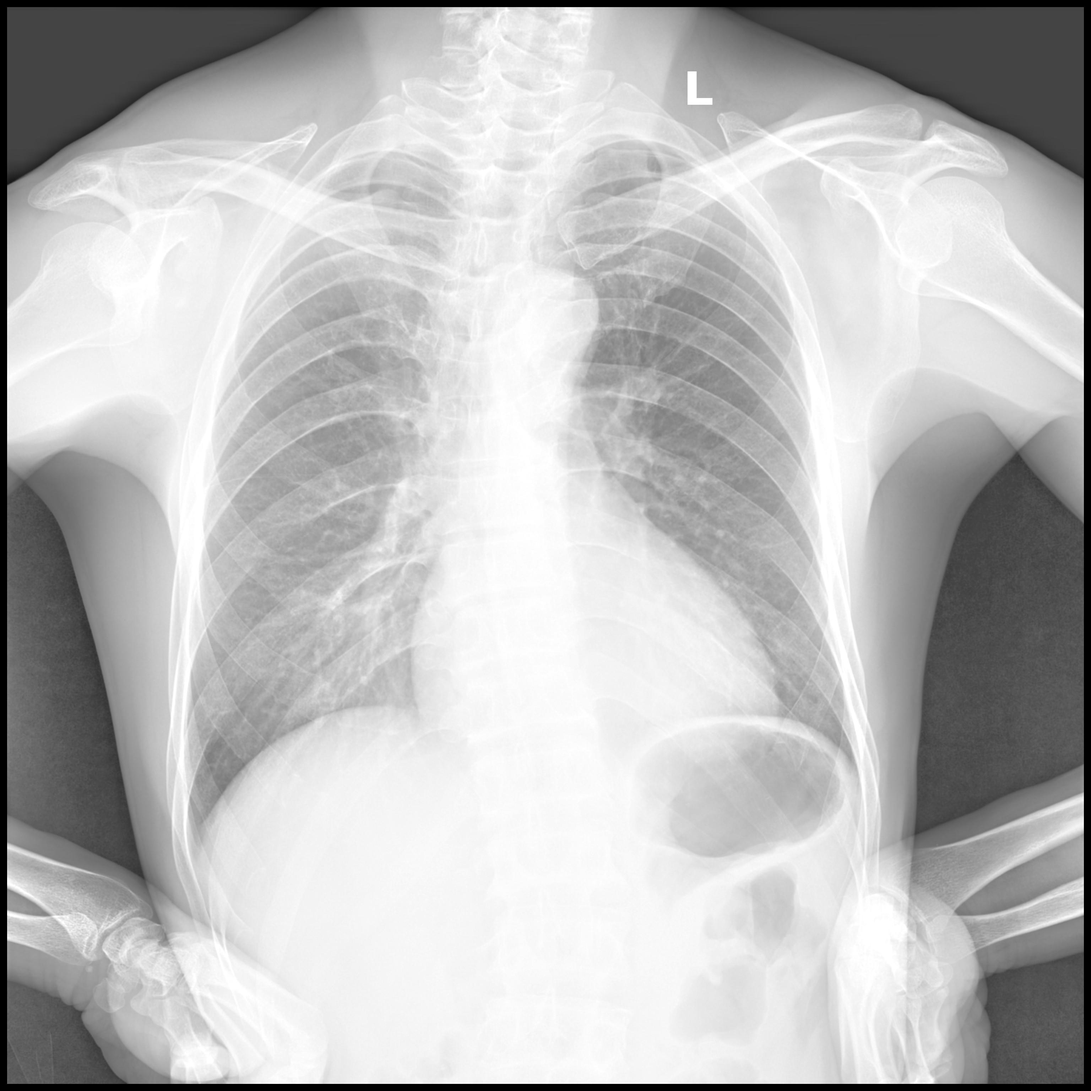Aortic enlargement: (501, 268, 597, 374)
Cardiomegaly: (405, 613, 780, 767)
